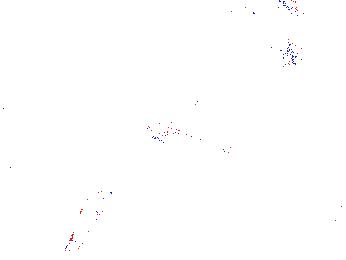X-ray fish: (278, 31, 300, 69)
glassfish: (66, 168, 123, 252), (142, 120, 238, 167)
red belly glassfish: (329, 48, 346, 60)
redtail glassfish: (227, 1, 300, 22)
